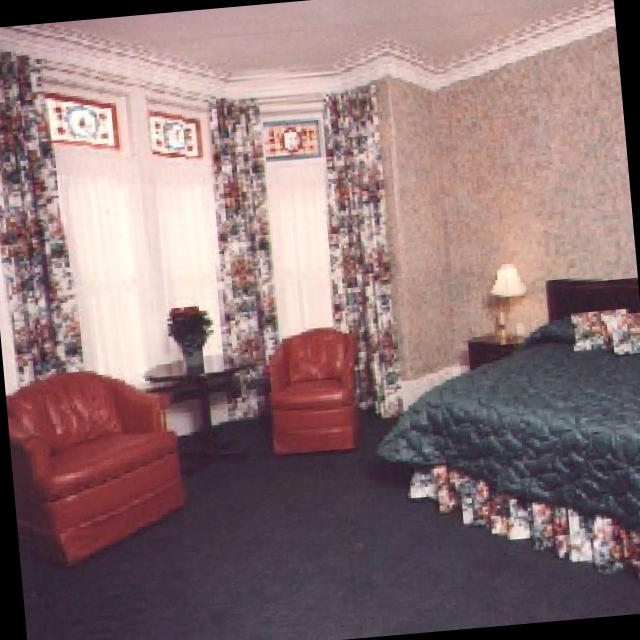2001: (41, 86, 145, 372), (142, 95, 216, 348), (259, 99, 327, 331)
armchair crop: (5, 368, 180, 565), (263, 324, 359, 455)
bed -occluded-: (371, 278, 640, 578)
bouquet: (162, 301, 210, 367)
ceiling beam: (26, 0, 584, 66)
curtain crop: (318, 83, 399, 416), (0, 45, 78, 384), (203, 97, 270, 418)
lamp crop: (483, 261, 528, 299)
pillow occluded: (598, 308, 639, 352), (568, 311, 608, 349)
small table part: (136, 344, 249, 470)
